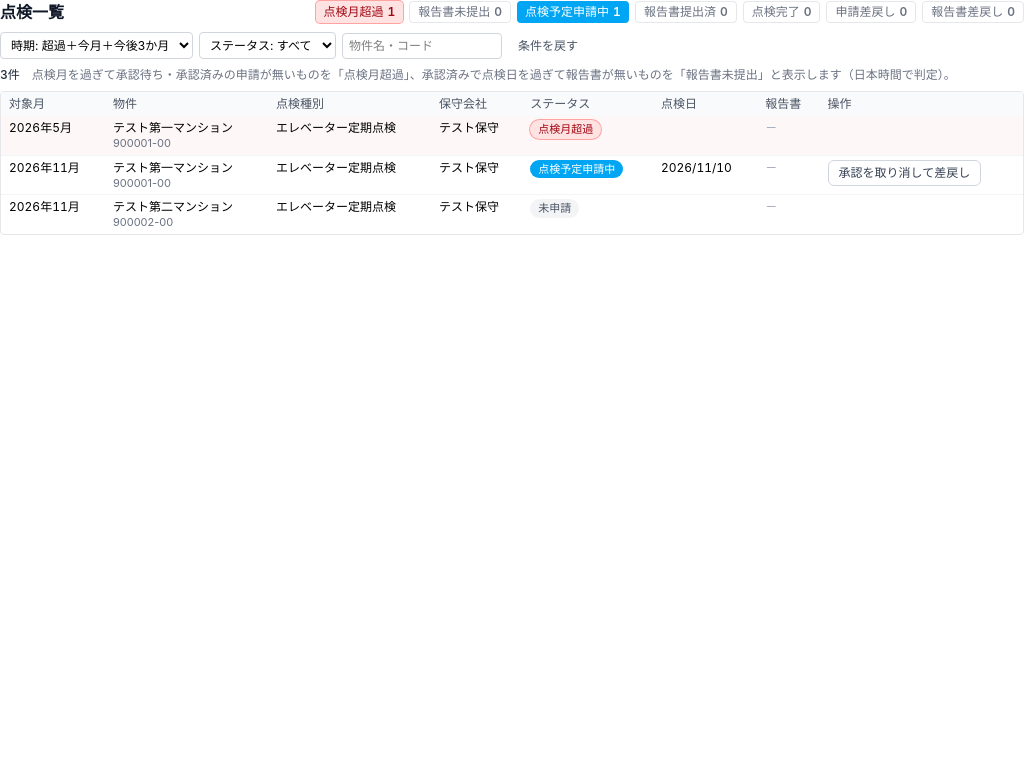
Test case: 点検一覧（InspectionPortal） › 承認済みの行の操作は「承認を取り消して差戻し」（内容を開いてから理由を聞く）
The image size is (1024, 768).
Check: the heading "点検一覧" is shown, box left=0, top=0, right=64, bottom=24
行のボタンは内容を開き、そこから理由を聞くダイアログへ進む
Click the button "承認を取り消して差戻し" at {"x": 904, "y": 173}, box left=828, top=160, right=981, bottom=186
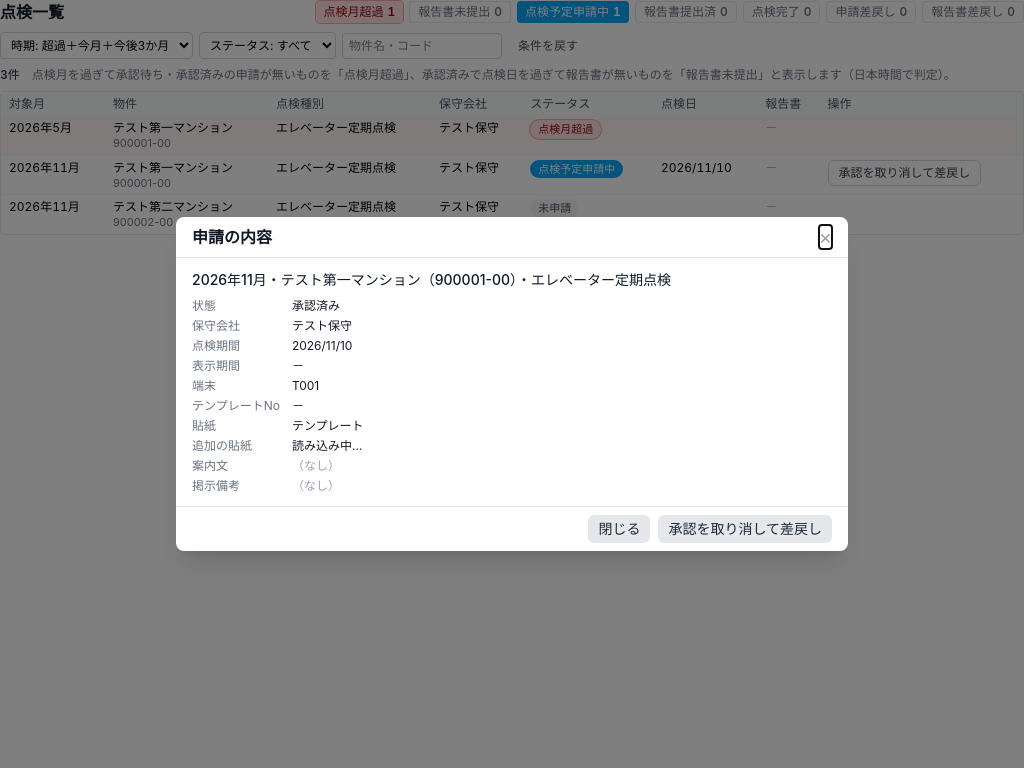
Check: the heading "申請の内容" is shown, box left=192, top=225, right=272, bottom=249
Click the button "承認を取り消して差戻し" at {"x": 745, "y": 529}, box left=658, top=515, right=832, bottom=543
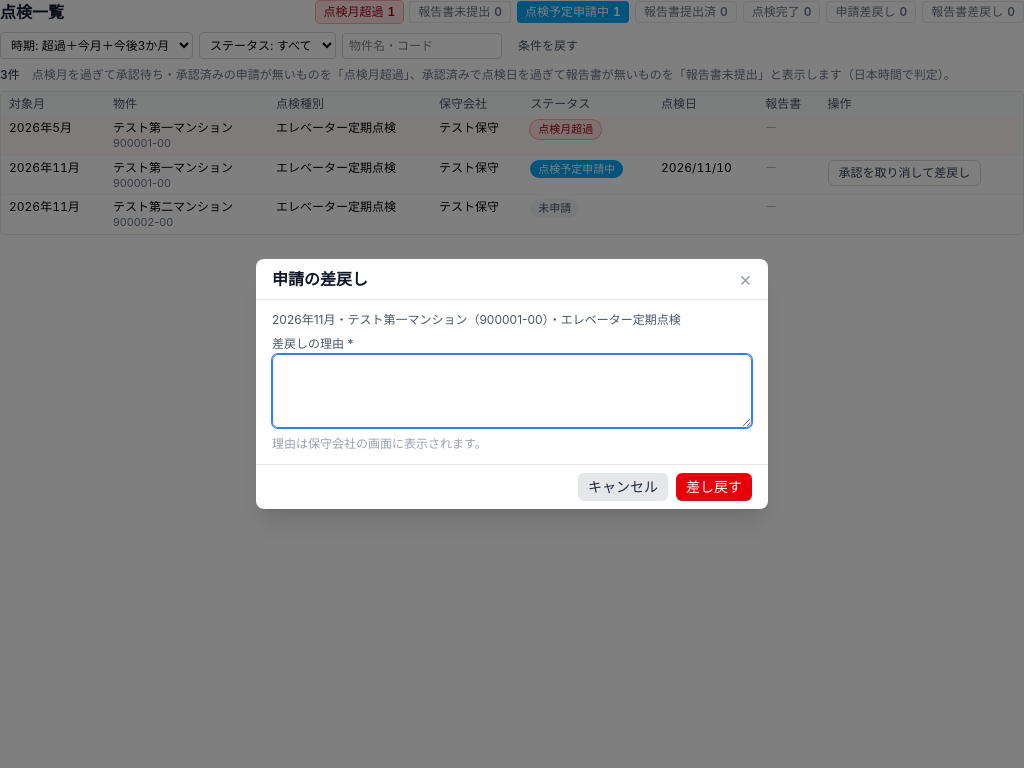
Check: the heading "申請の差戻し" is shown, box left=272, top=267, right=368, bottom=291
